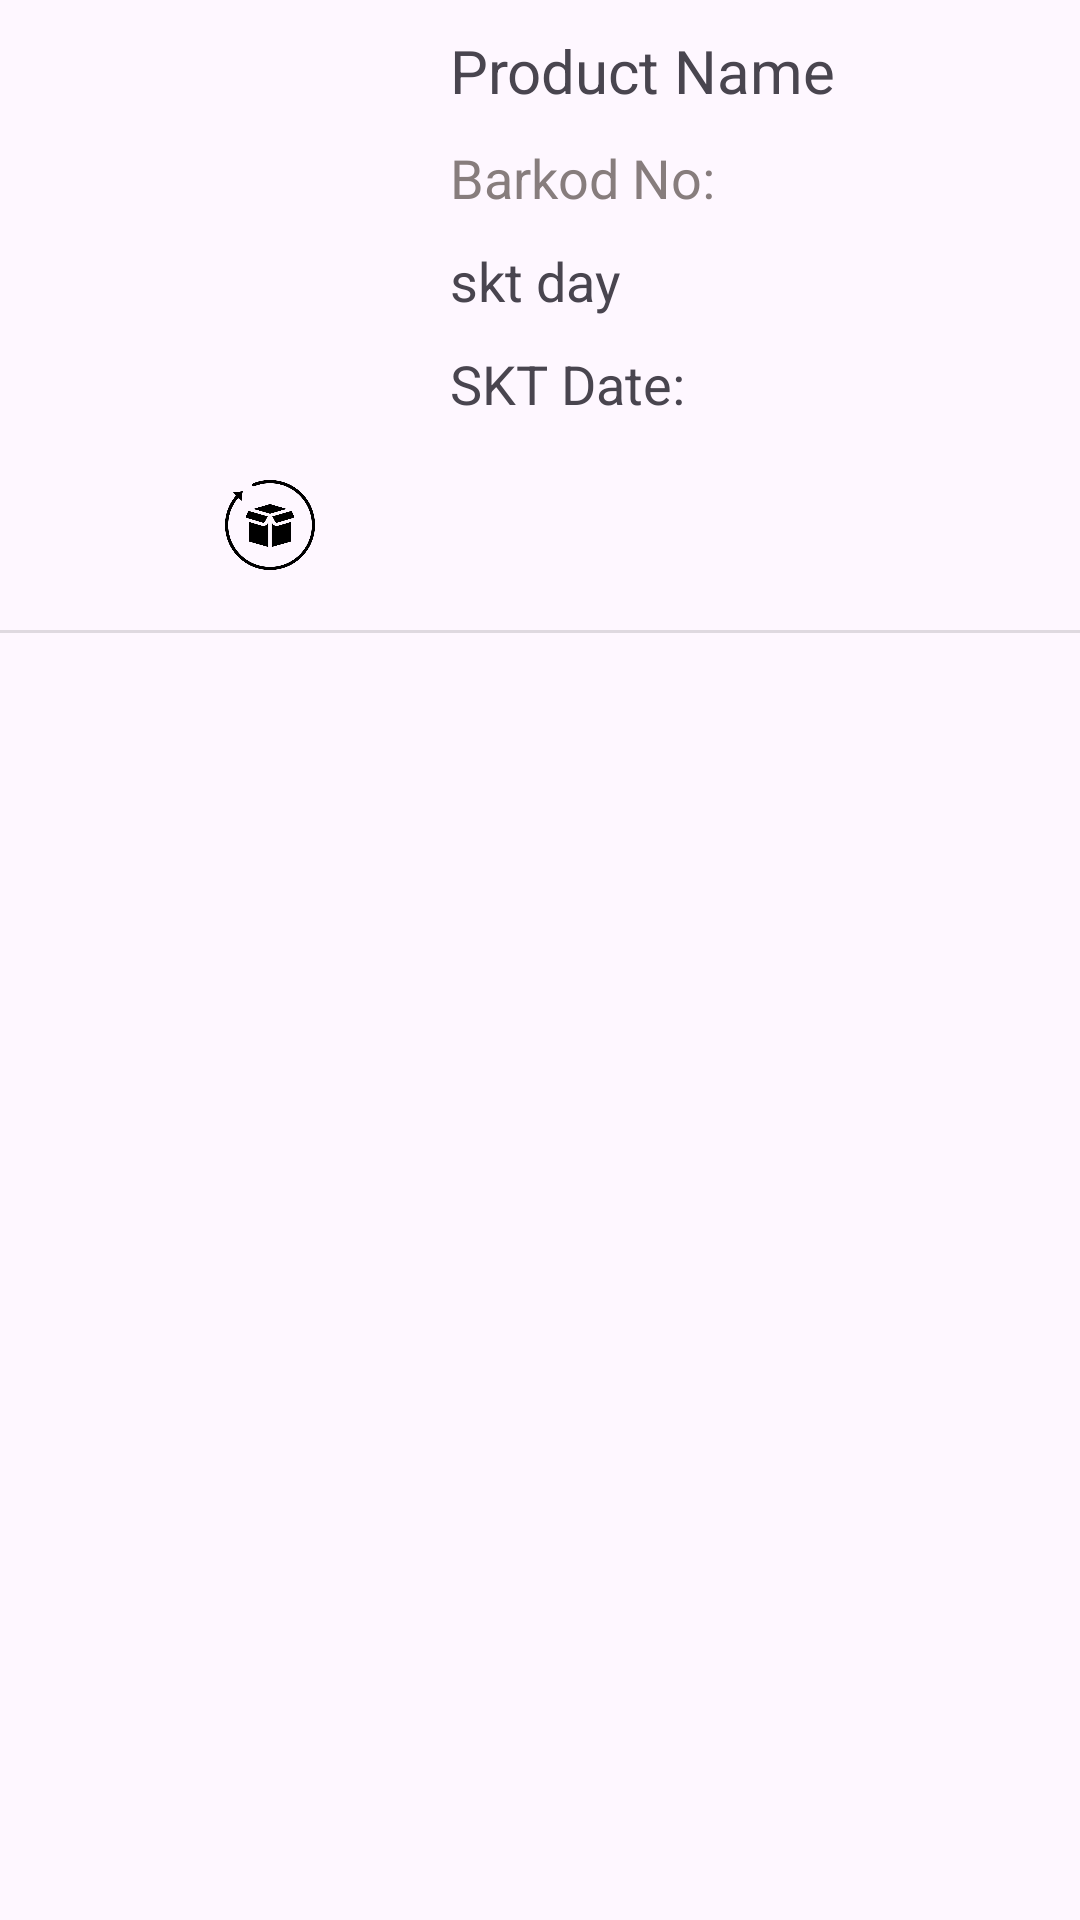

Named icons in this screenshot (1080w x 1920h) and their centers, (x=x, y=y):
update: (x=270, y=525)
